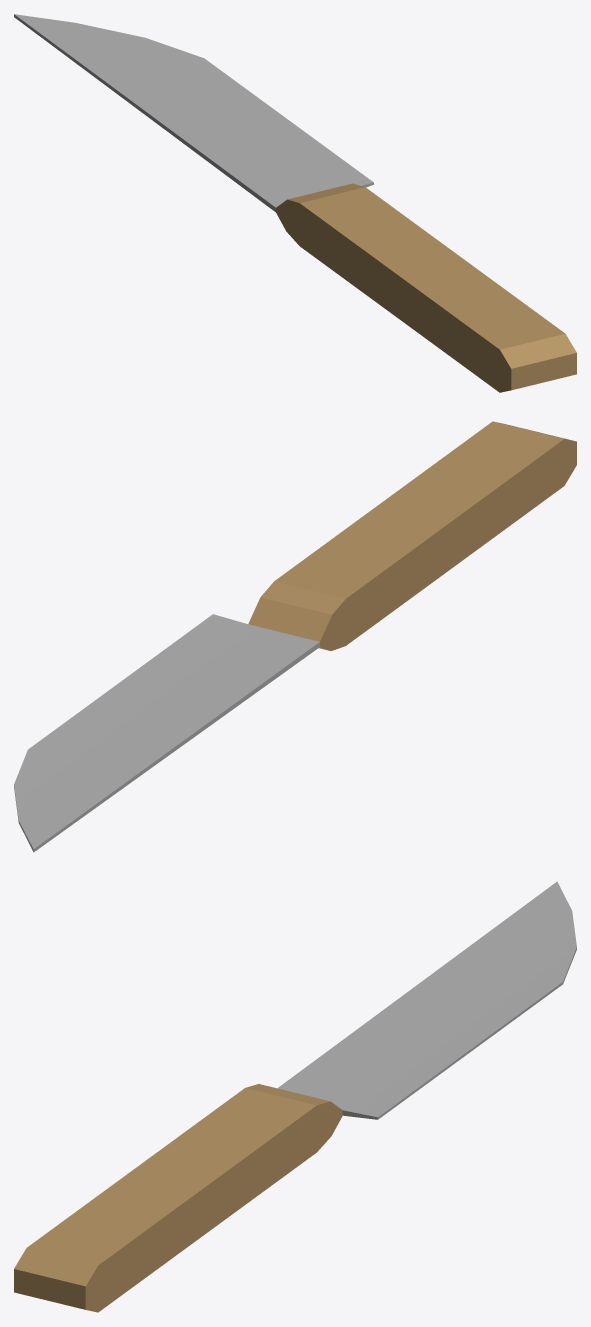
Rendered from Knife2.FBX.
3 views of the same model, one above another, from view 1: azimuth 30°, elevation 25°; view 2: azimuth 150°, elevation 25°; view 3: azimuth 330°, elevation 25° (orthographic). The views are drawn at different scales.
Visible parts, largest first — view 1: SmallKnife; view 2: SmallKnife; view 3: SmallKnife.
Part boxes in pixels (<box>): SmallKnife: <box>14,14,576,392</box>; SmallKnife: <box>14,421,576,852</box>; SmallKnife: <box>14,881,576,1312</box>.
Bounding box in the file's own units: 3.08 × 1.3 × 27.13.
